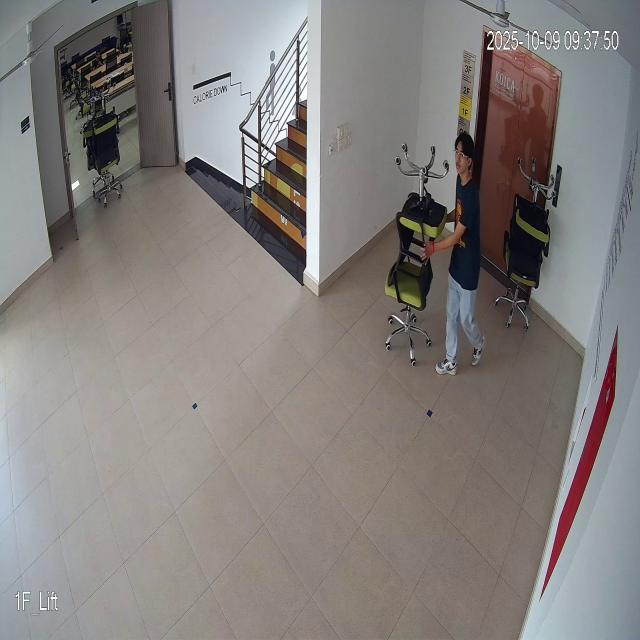face: (453, 130, 479, 182)
